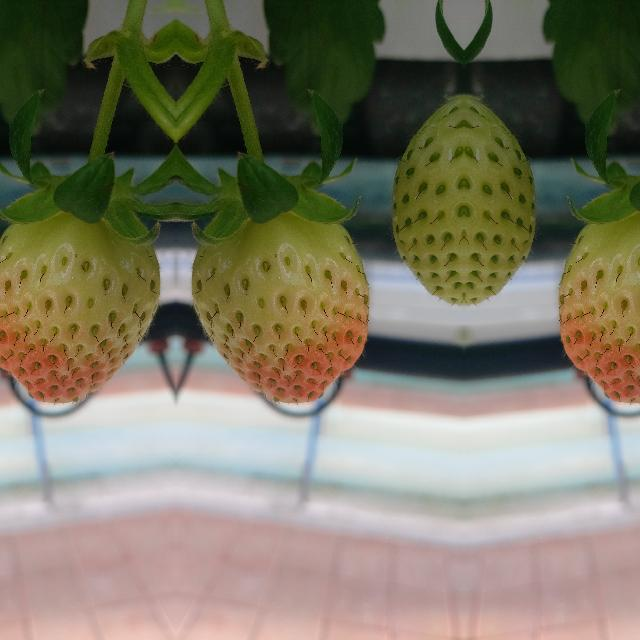Health_25: (380, 86, 462, 310), (464, 86, 546, 310)
Health_50: (190, 213, 368, 403), (0, 213, 160, 403), (557, 213, 640, 403)
